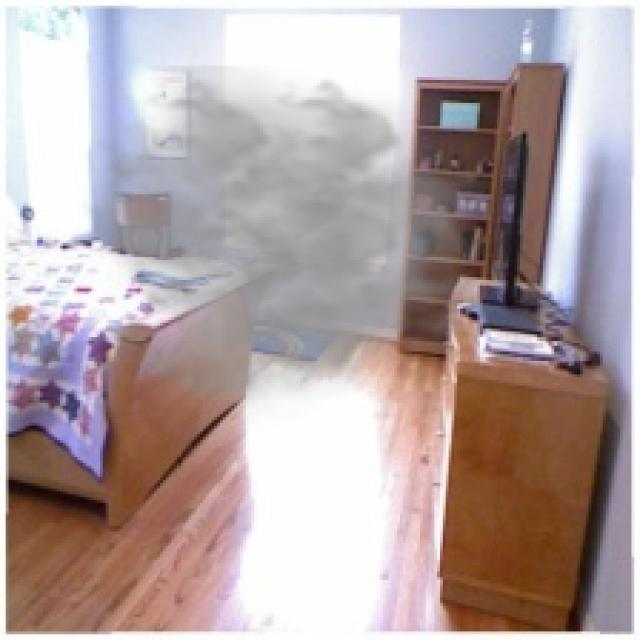smoke: (77, 66, 494, 434)
